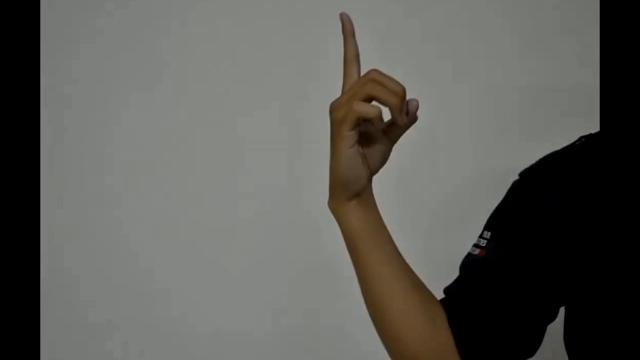D: (326, 12, 419, 202)
